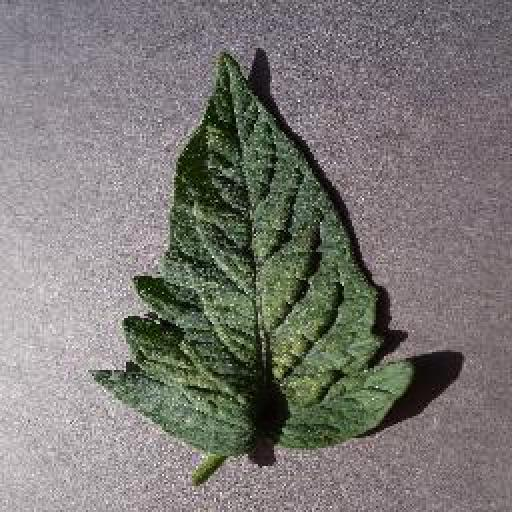disease_tomato: (91, 48, 419, 454)
